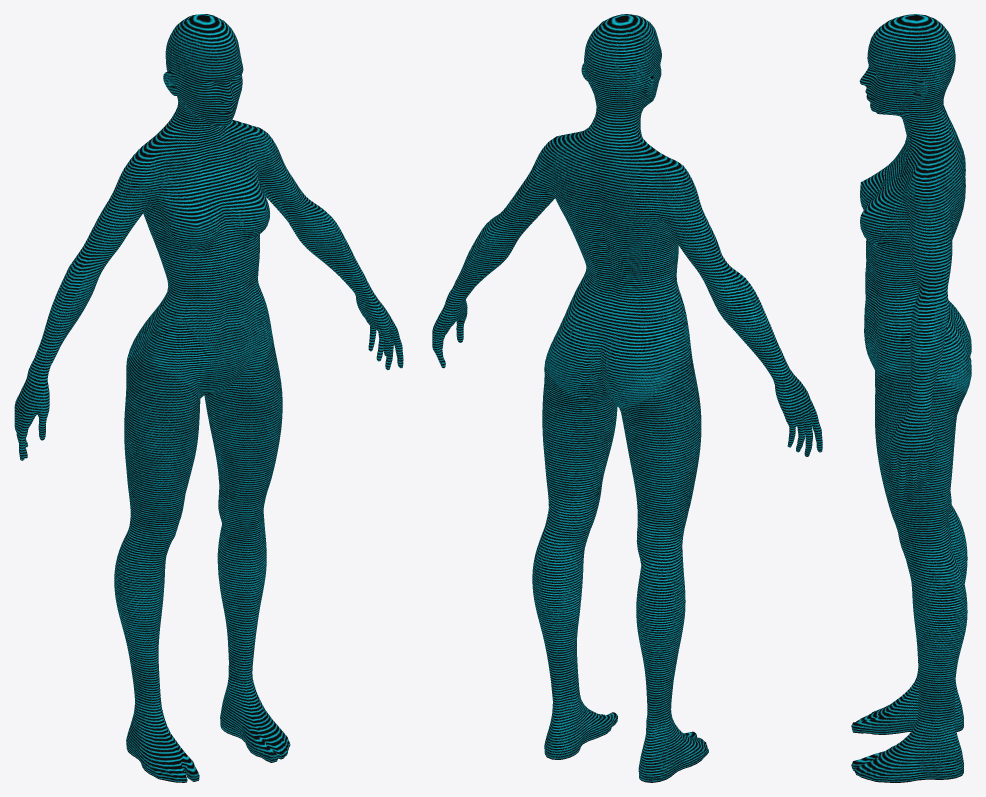
Rendered from fixed-hologram-f-v3.glb.
3 renders of one model, left to right at view 1: azimuth 30°, elevation 25°; view 2: azimuth 150°, elevation 25°; view 3: azimuth 270°, elevation 25°, orthographic.
Parts seen in each view (by area): view 1: FemaleHologram; view 2: FemaleHologram; view 3: FemaleHologram.
Boxes of the visible parts, x1=… form: FemaleHologram: x1=14, y1=14, x2=403, y2=782; FemaleHologram: x1=432, y1=14, x2=822, y2=782; FemaleHologram: x1=851, y1=14, x2=971, y2=782.
Size of the model in its own units: 0.9276 by 1.69 by 0.2518.
Materials: 1 (1 with a texture image).
